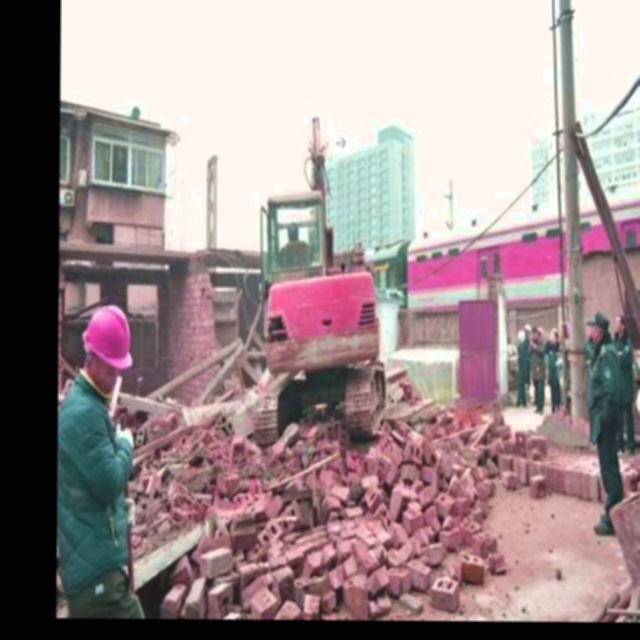Con_Casco: (83, 299, 134, 395)
Sin_Casco_Mascarrilla: (586, 311, 609, 342)
